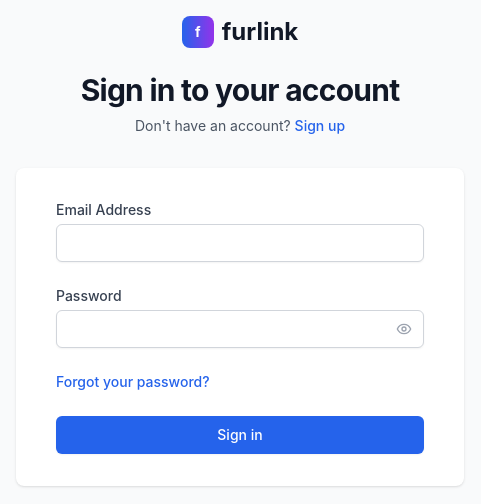
Test: LoginPage › shows loading state during submission
The width and height of the screenshot is (481, 504).
Type "test@example.com" into the field labelled "Email Address" at (240, 243), box [56,224,424,262]
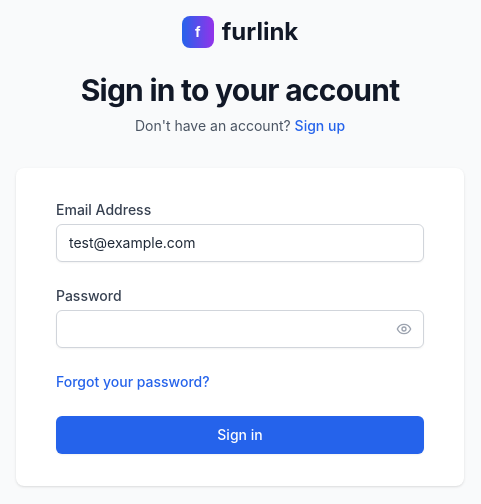
Type "password123" into the password field labelled "Password" at (240, 329), box [56,310,424,348]
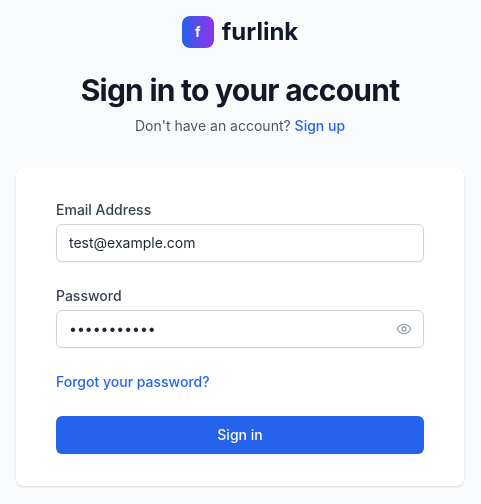
Click the button "Sign in" at (240, 435), box [56,416,424,454]
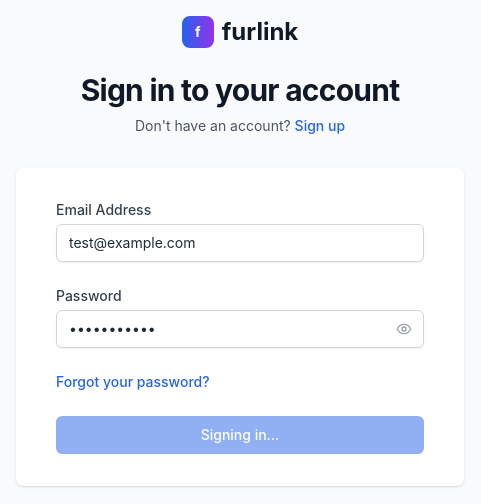
Check: the button "Signing in..." is disabled, box [56,416,424,454]
